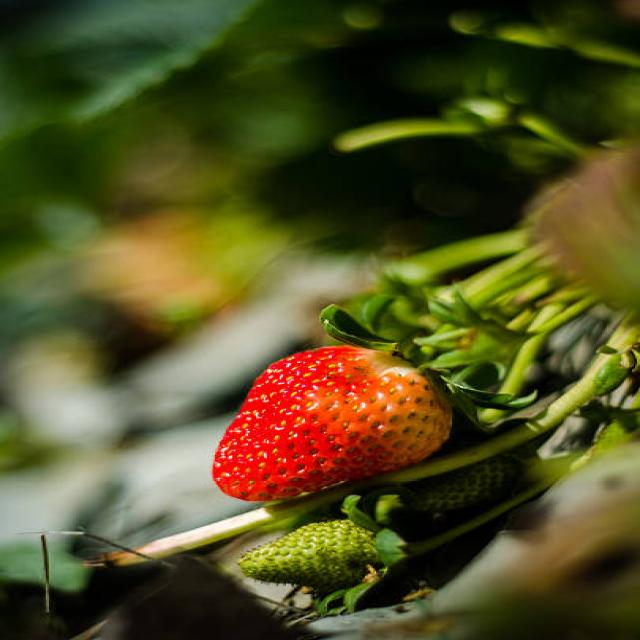Healthy Fruit: (213, 343, 455, 503)
